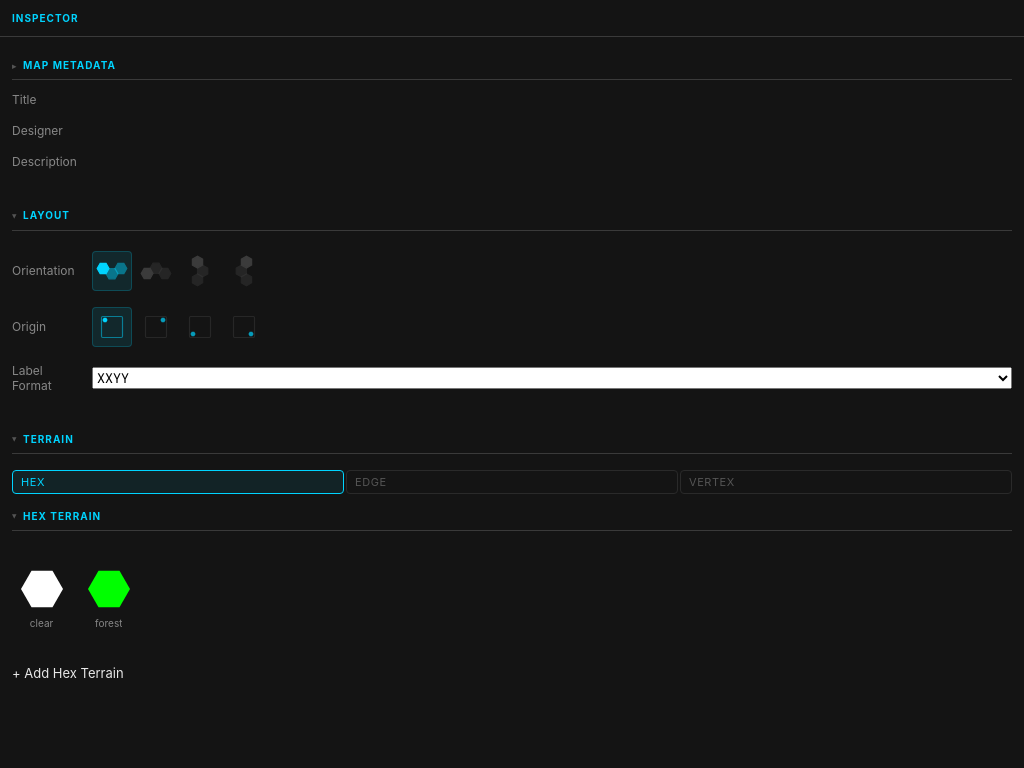
Test case: Inspector › opens edit form when terrain grid cell is double-clicked
Double-click the button "forest" at (109, 597), box 85,565 -> 133,629
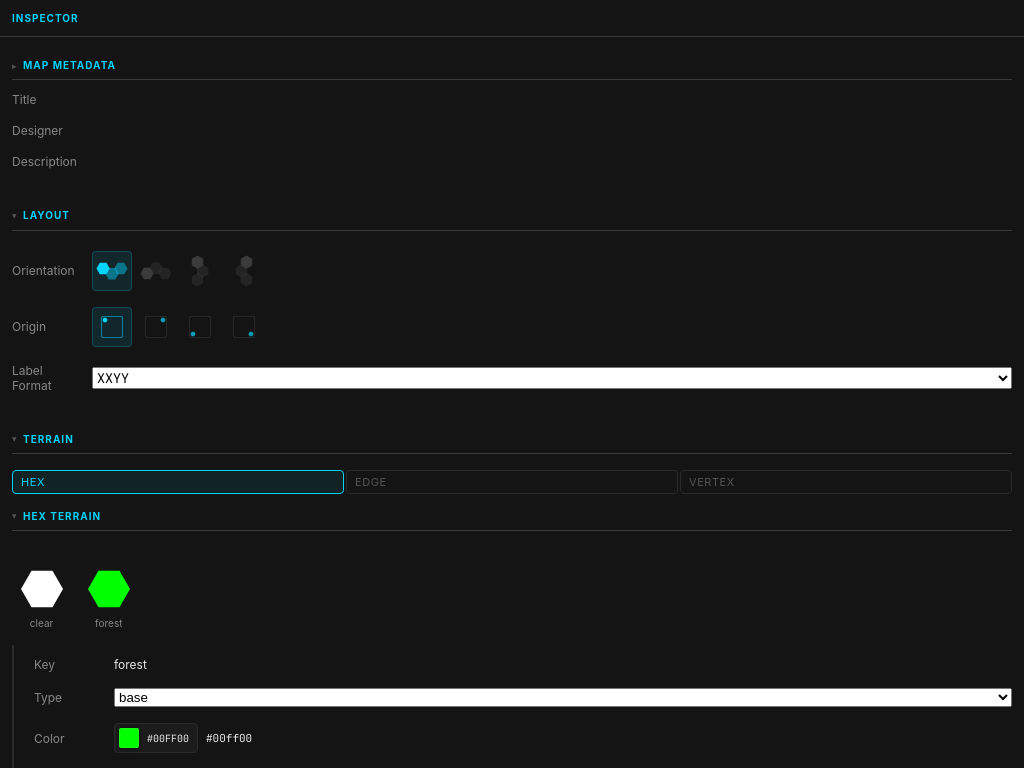
Result: the field labelled "Key" is shown at 114,657 -> 1012,672
